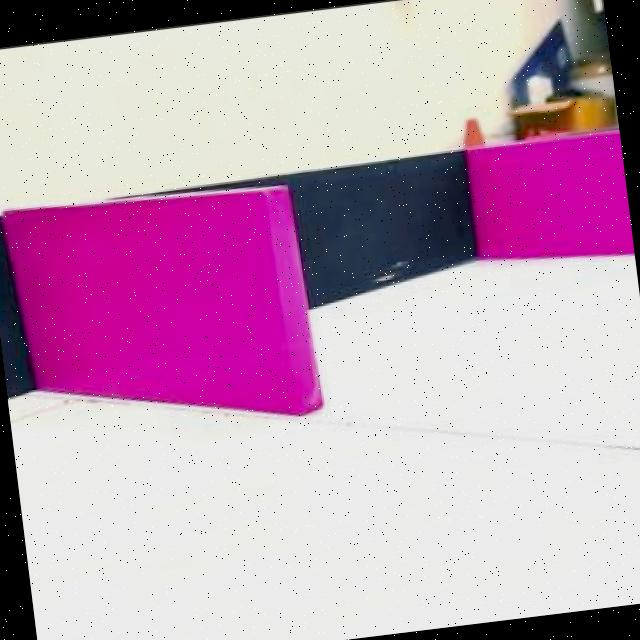xparking: (5, 182, 314, 408), (467, 132, 633, 262)
